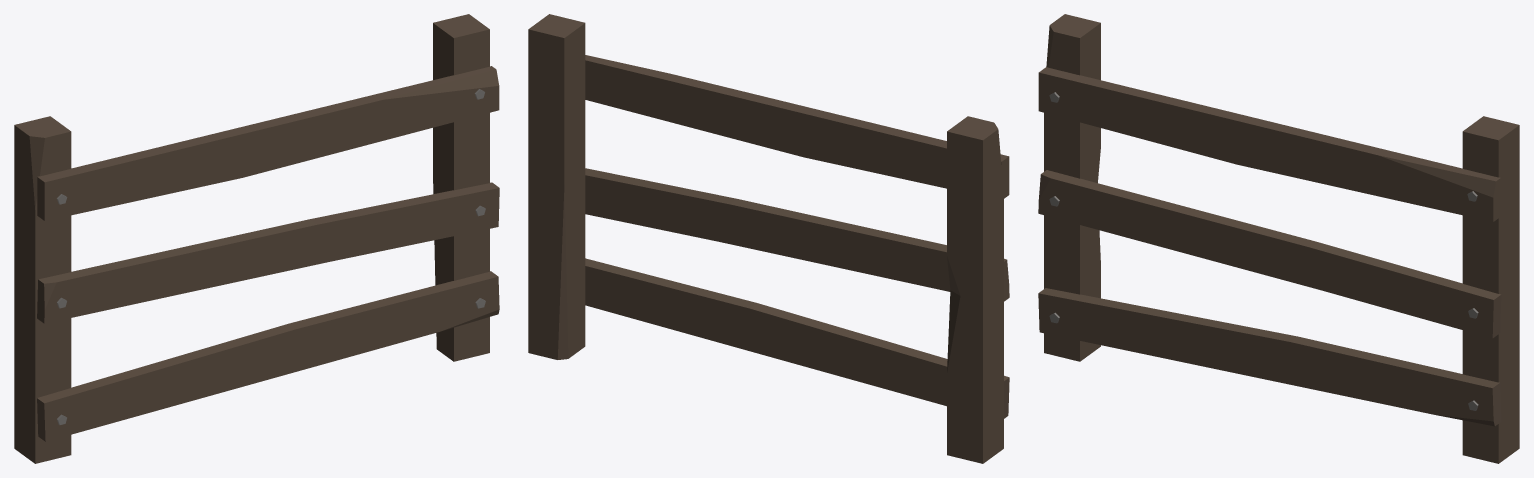
File: SM_Props_Farm_Fence_Square_T2_Preset.fbx
The picture shows the model from 3 angles, left to right: view 1: azimuth 30°, elevation 25°; view 2: azimuth 150°, elevation 25°; view 3: azimuth 330°, elevation 25°; orthographic projection.
Parts seen in each view (by area): view 1: SM_Props_Farm_Fence_Square_T2_Preset; view 2: SM_Props_Farm_Fence_Square_T2_Preset; view 3: SM_Props_Farm_Fence_Square_T2_Preset.
Boxes of the visible parts, x1,y1,x2,y2 form: SM_Props_Farm_Fence_Square_T2_Preset: (14,14,499,463); SM_Props_Farm_Fence_Square_T2_Preset: (528,14,1009,463); SM_Props_Farm_Fence_Square_T2_Preset: (1038,14,1519,463).
Bounding box in the file's own units: 201 × 136 × 22.59.
